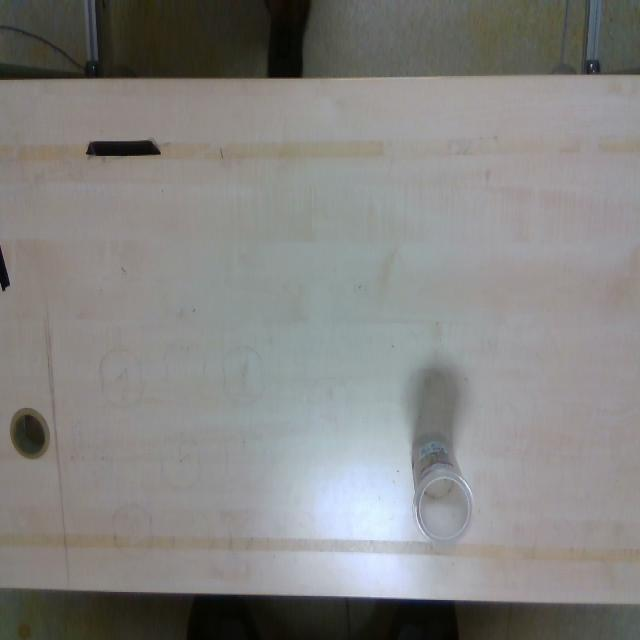cups: (411, 428, 474, 546)
